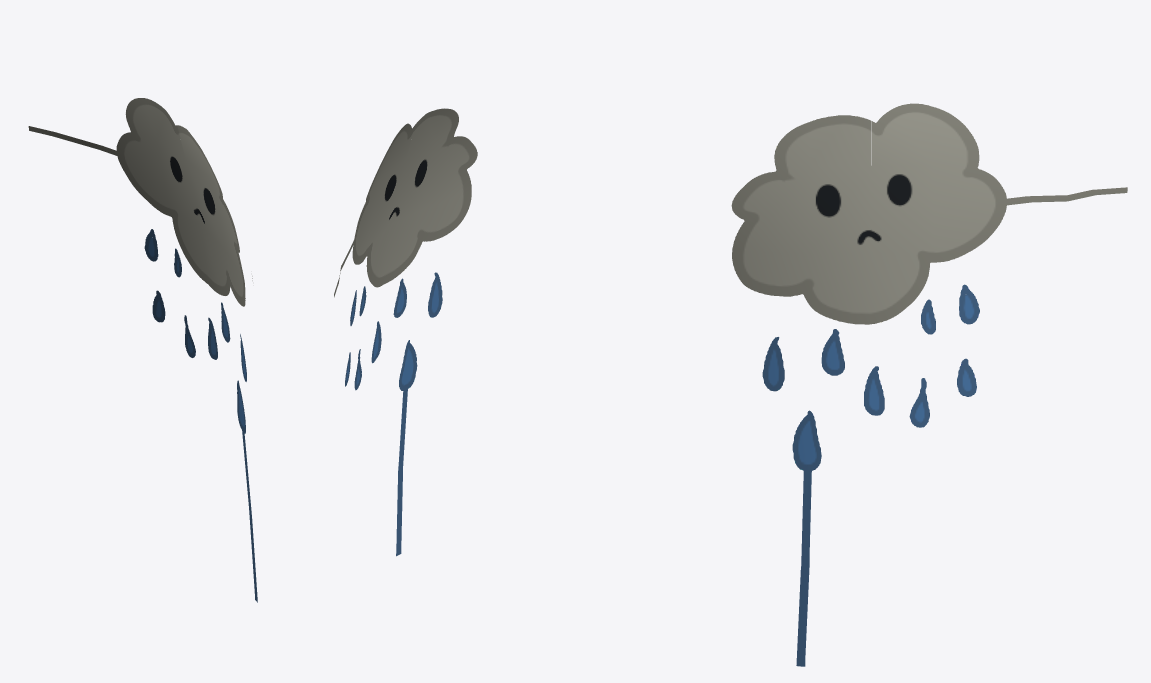
The model's file is Raincloud.fbx.
3 renders of one model, left to right at view 1: azimuth 30°, elevation 25°; view 2: azimuth 150°, elevation 25°; view 3: azimuth 270°, elevation 25°, orthographic. The views are drawn at different scales.
Visible parts, largest first — view 1: Raincloud; view 2: Raincloud; view 3: Raincloud.
Part boxes in pixels (x1,y1,x2,y2): Raincloud: (28,98,257,602); Raincloud: (334,108,477,556); Raincloud: (731,103,1127,666).
Size of the model in its own units: 15 by 71.33 by 56.36.
